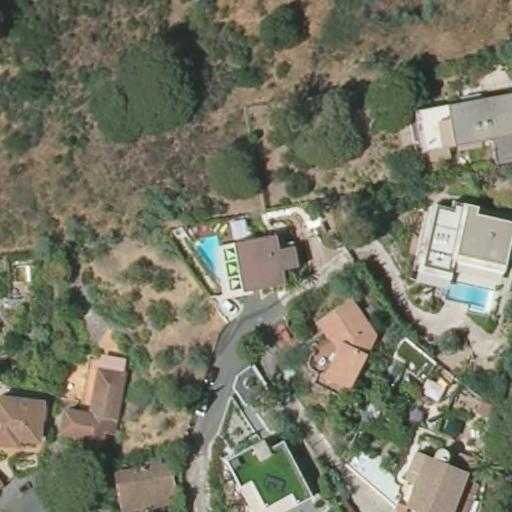pool: (183, 232, 222, 279), (442, 275, 494, 308)
